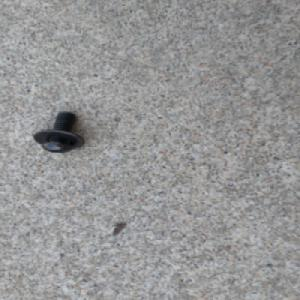BoltWasher: (31, 110, 89, 154)
